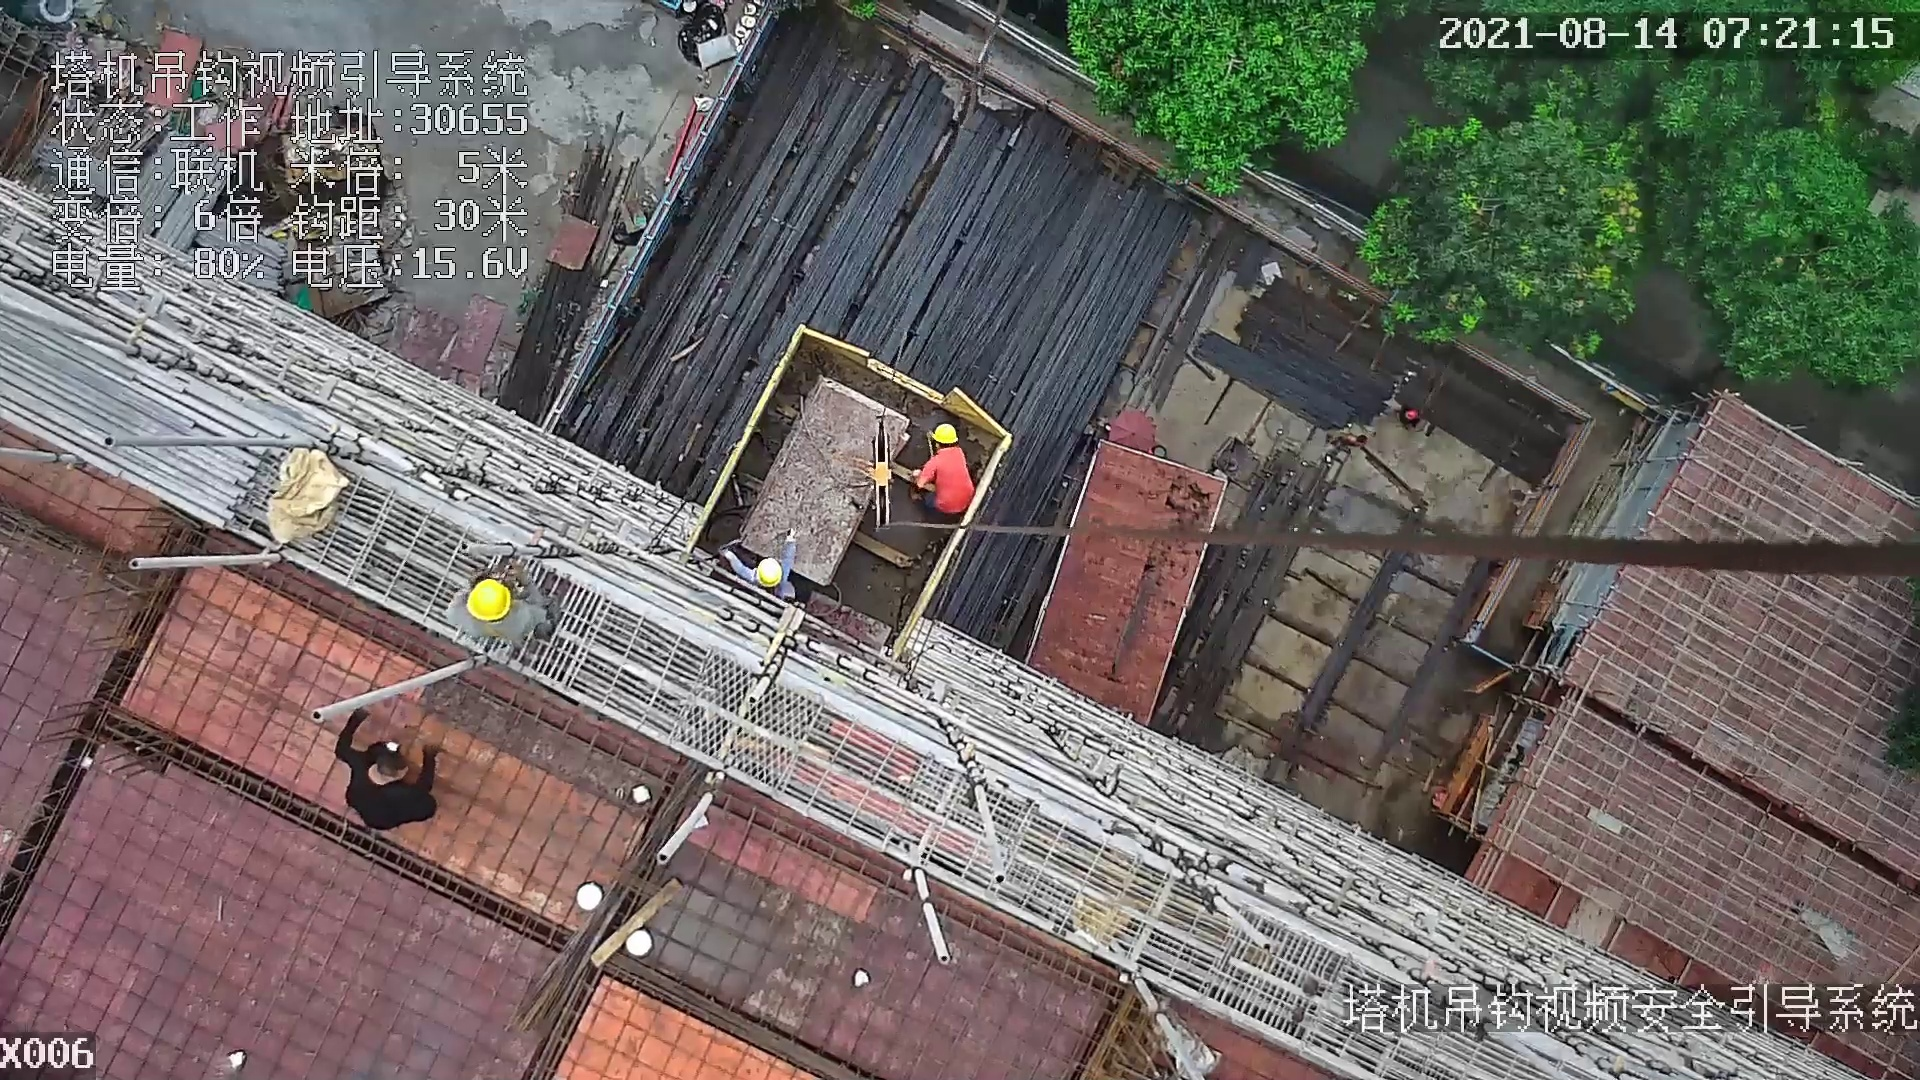helmet: (464, 575, 513, 621), (757, 555, 786, 588), (927, 421, 961, 444)
person: (340, 706, 449, 831), (441, 554, 558, 650), (709, 526, 803, 606), (912, 421, 973, 523)
